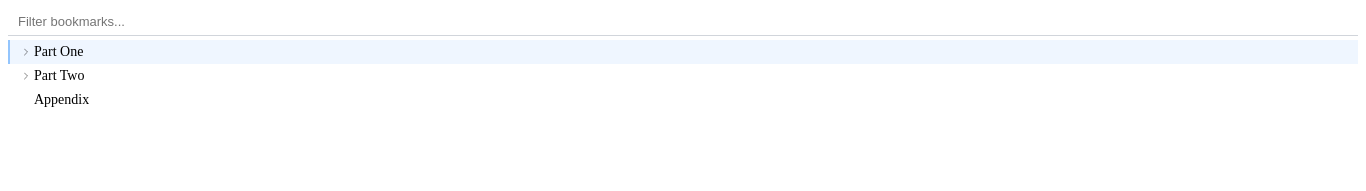
Test: BookmarkPanel › filter › shows match count
This screenshot has width=1366, height=191.
Step 1. Type "chapter" into the search field labelled "Filter bookmarks" → {"x": 683, "y": 22}, box [8,8,1358,36]
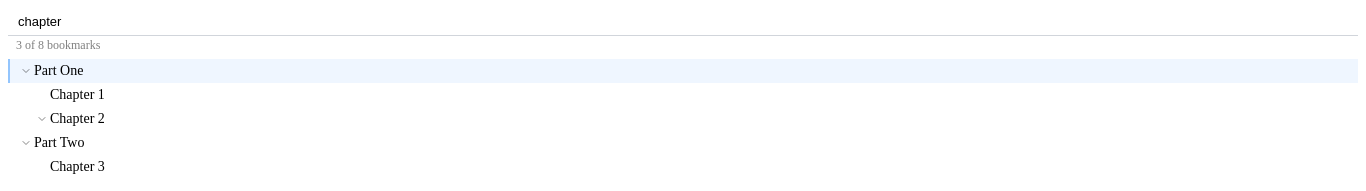
expect the text "3 of 8 bookmarks" is shown: met, box [16,38,100,52]
